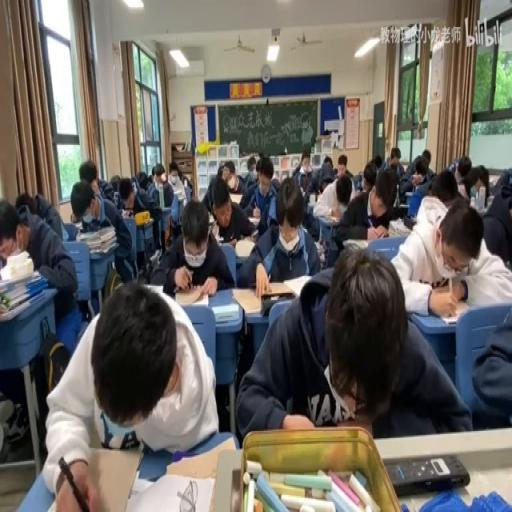calculator: (49, 443, 144, 512), (126, 471, 215, 512), (386, 452, 470, 495), (163, 434, 234, 480), (230, 282, 294, 314), (434, 297, 470, 323), (283, 272, 316, 296), (174, 287, 208, 306), (212, 302, 238, 322), (234, 236, 256, 258), (388, 218, 410, 236), (342, 238, 368, 250), (134, 214, 154, 228), (148, 249, 160, 269), (228, 192, 243, 205), (218, 238, 236, 248), (246, 215, 260, 226), (325, 213, 341, 222), (248, 228, 258, 240), (121, 209, 133, 218), (308, 199, 314, 215), (208, 214, 214, 228), (404, 190, 414, 198)
paper: (238, 248, 466, 442), (0, 193, 77, 448), (390, 196, 510, 314), (235, 176, 319, 289), (155, 196, 233, 296), (69, 178, 131, 283), (470, 296, 510, 425), (122, 172, 164, 256), (310, 166, 357, 235), (51, 283, 83, 356), (0, 200, 27, 264), (401, 151, 434, 199), (165, 159, 187, 228), (428, 168, 460, 206), (294, 151, 320, 196), (460, 164, 488, 204), (218, 156, 246, 195), (78, 158, 98, 188), (333, 154, 352, 184), (385, 146, 403, 176), (492, 168, 512, 195), (14, 192, 37, 215), (360, 161, 376, 192), (318, 176, 334, 194), (118, 185, 132, 205), (153, 165, 166, 186), (144, 178, 157, 199), (448, 155, 462, 174), (134, 171, 148, 189), (353, 172, 363, 191), (246, 154, 255, 174), (109, 174, 120, 190), (373, 155, 382, 171), (322, 156, 332, 170), (181, 175, 191, 189), (218, 162, 224, 175)
person: (395, 205, 409, 219)
